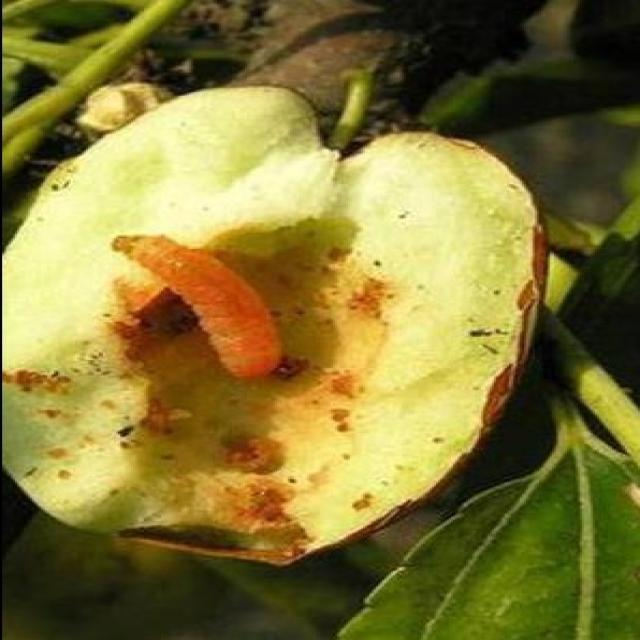peach borer: (108, 233, 302, 375)
